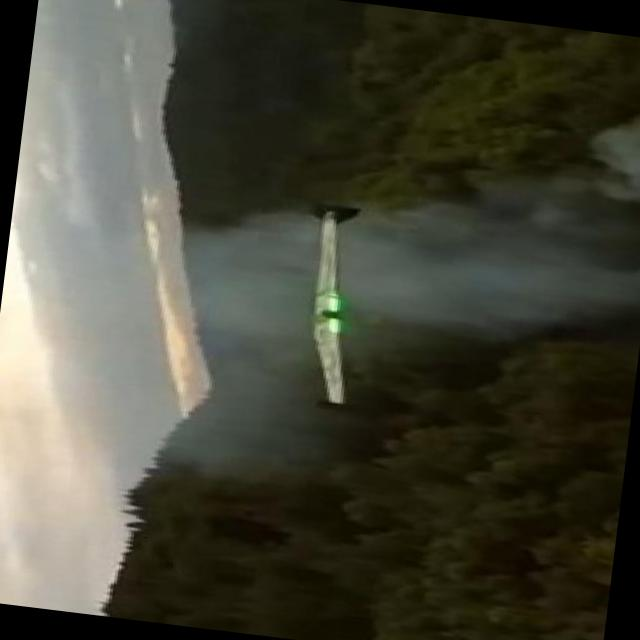UAV: (285, 172, 396, 412)
